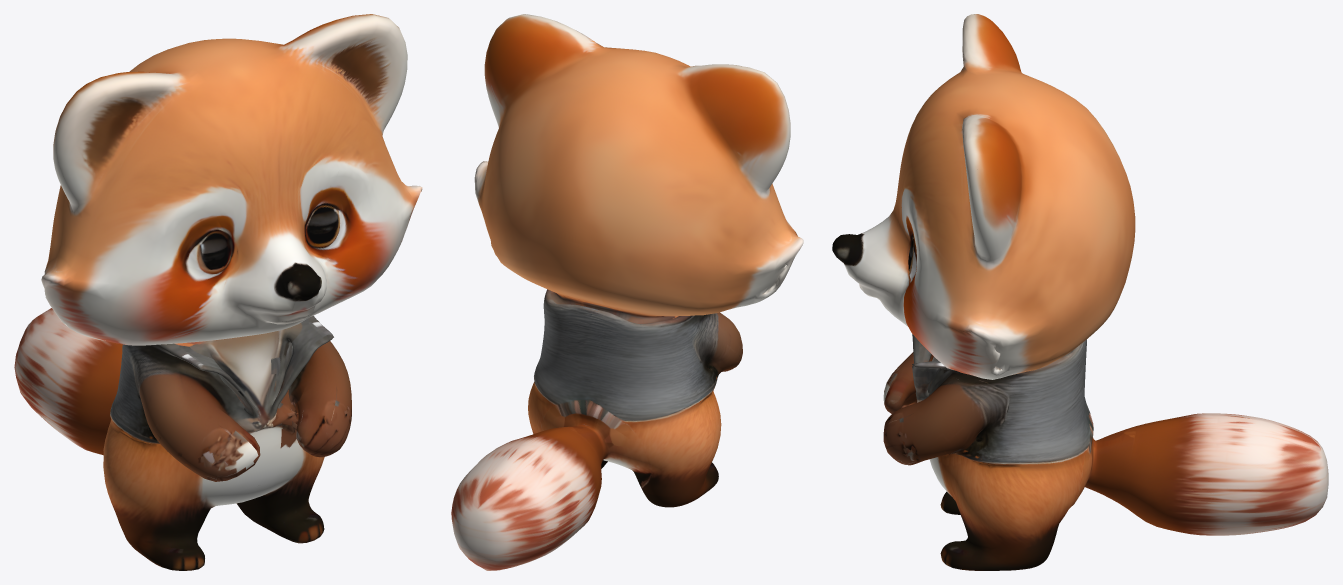
File: Jack The Red Panda.glb
3 renders of one model, left to right at view 1: azimuth 30°, elevation 25°; view 2: azimuth 150°, elevation 25°; view 3: azimuth 270°, elevation 25°, orthographic. The views are drawn at different scales.
Parts seen in each view (by area): view 1: Object_2; view 2: Object_2; view 3: Object_2.
Boxes of the visible parts, x1,y1,x2,y2 form: Object_2: [14, 14, 422, 570]; Object_2: [451, 14, 803, 570]; Object_2: [832, 14, 1328, 570].
Size of the model in its own units: 1.5 by 1.9 by 1.86.
Materials: 1 (1 with a texture image).
